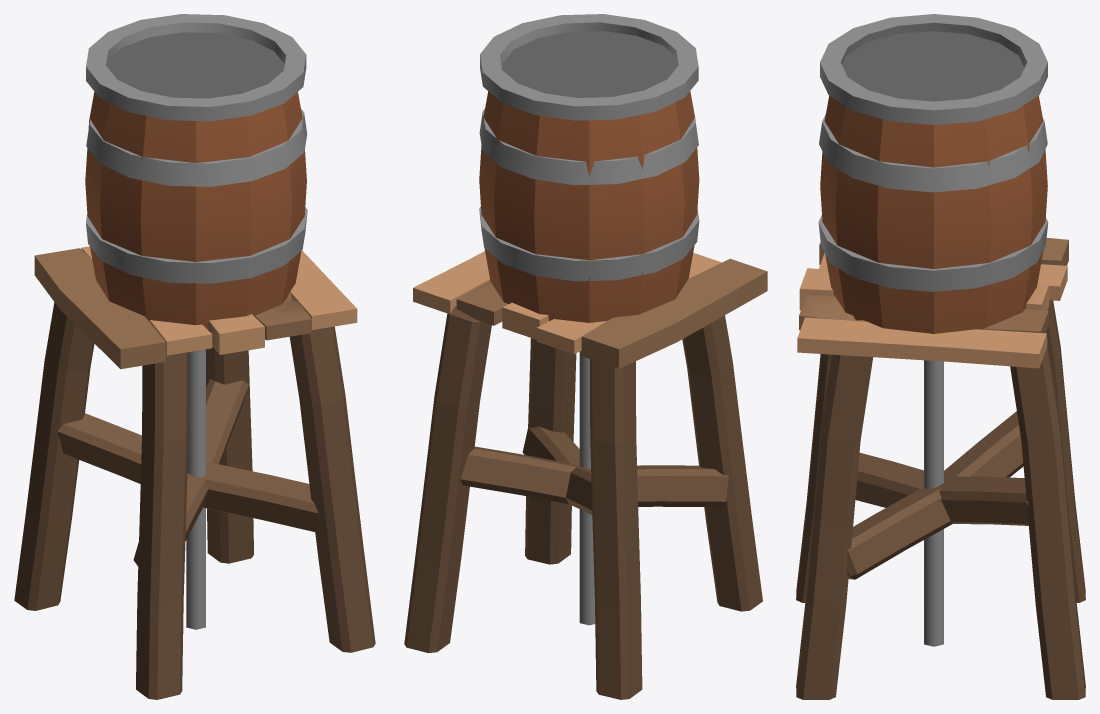
File: Water_tower.fbx
3 renders of one model, left to right at view 1: azimuth 30°, elevation 25°; view 2: azimuth 150°, elevation 25°; view 3: azimuth 270°, elevation 25°, orthographic. The views are drawn at different scales.
Visible parts, largest first — view 1: Cylinder; view 2: Cylinder; view 3: Cylinder.
Boxes of the visible parts, x1,y1,x2,y2 form: Cylinder: [14, 14, 375, 699]; Cylinder: [404, 14, 767, 699]; Cylinder: [796, 14, 1085, 699].
Bounding box in the file's own units: 243 × 517 × 234.
